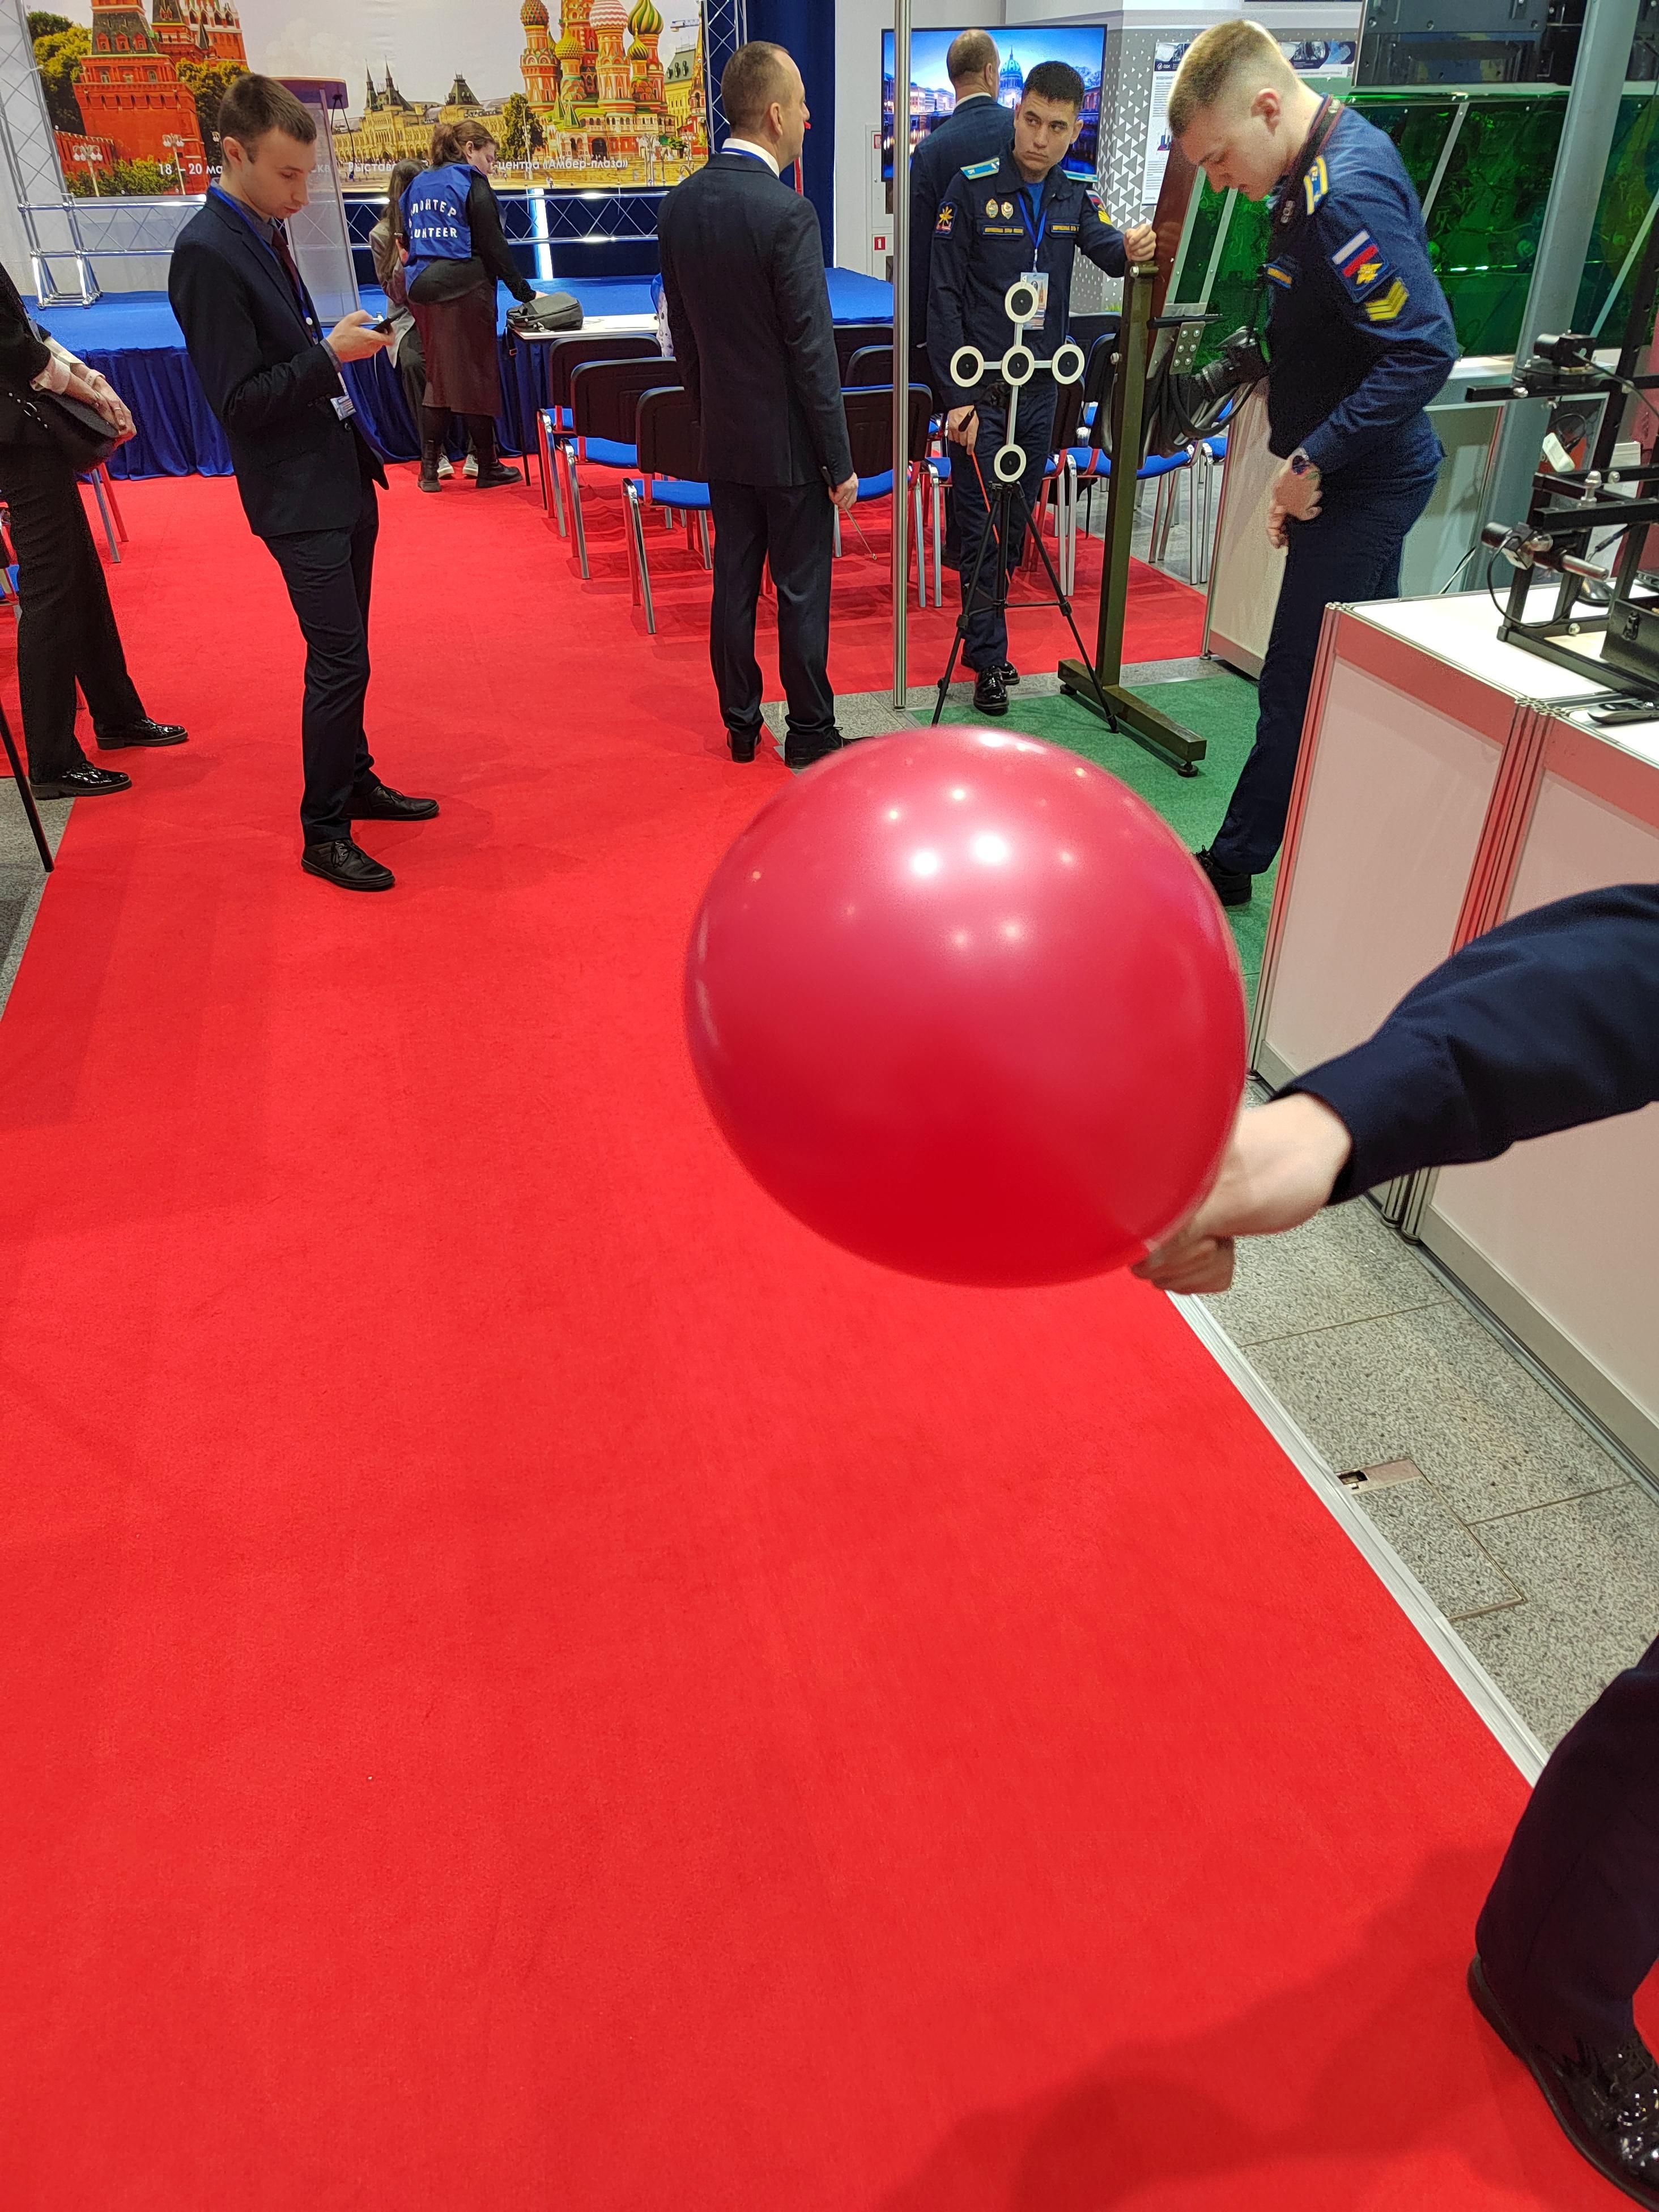red: (669, 716, 1265, 1296)
